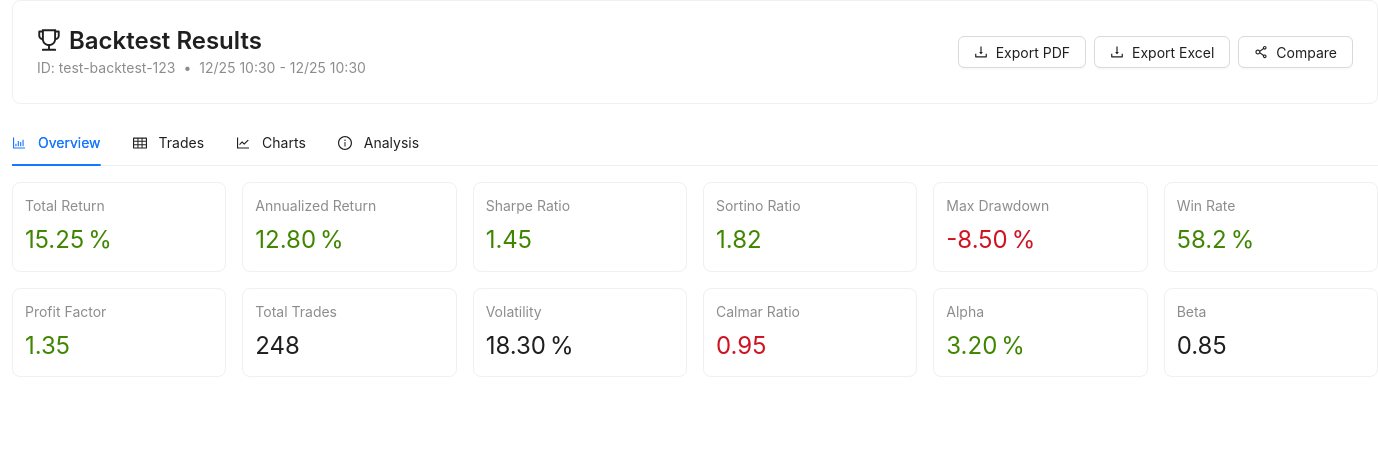
it: BacktestResults › should render analysis tab content
Click the tab "Analysis": coordinates (378, 143) x1=338 y1=132 x2=419 y2=154
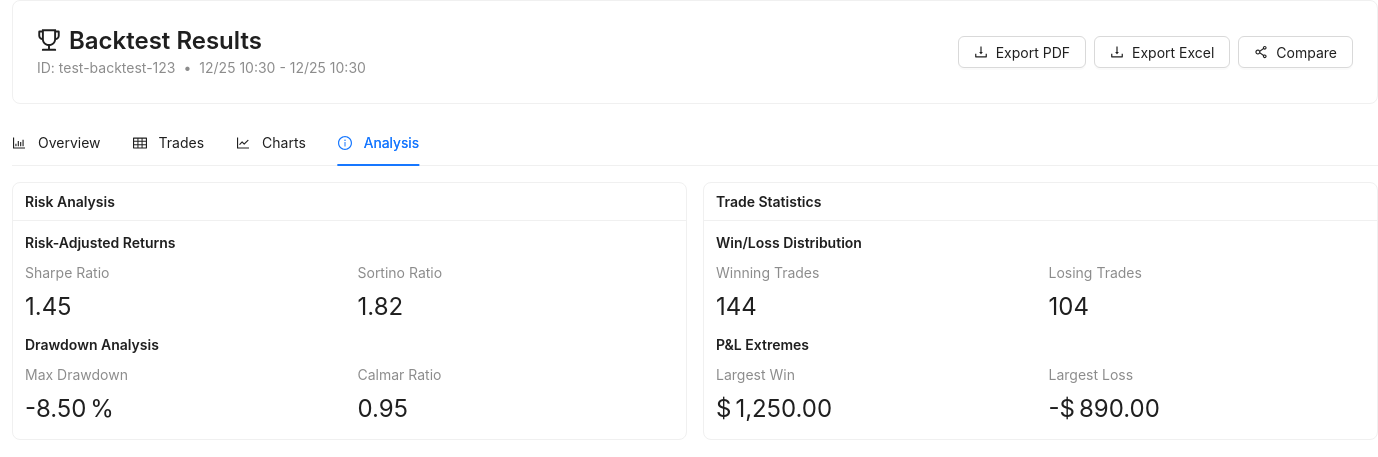
Expected: the text "Risk Analysis" is shown, x1=25 y1=192 x2=115 y2=210
Expected: the text "Trade Statistics" is shown, x1=716 y1=192 x2=821 y2=210
